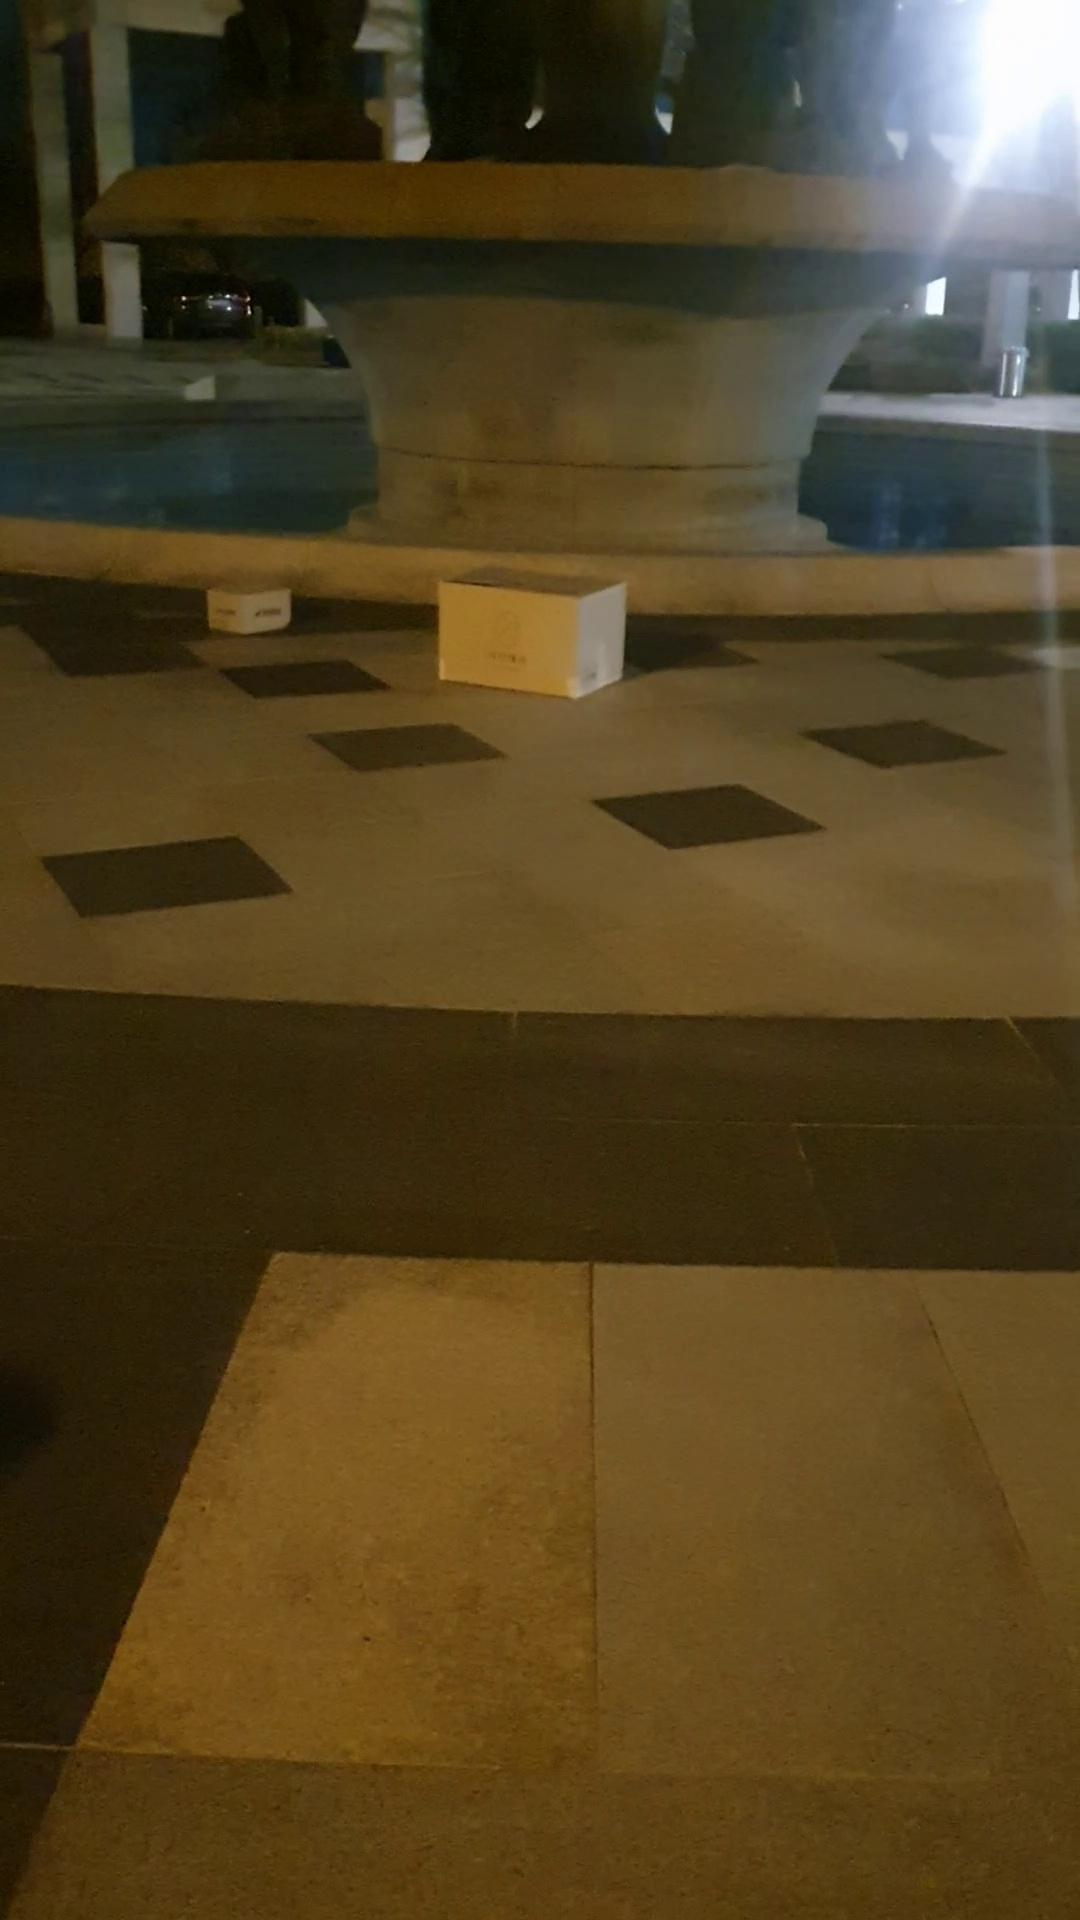Box: (423, 549, 642, 723), (206, 570, 298, 637)
